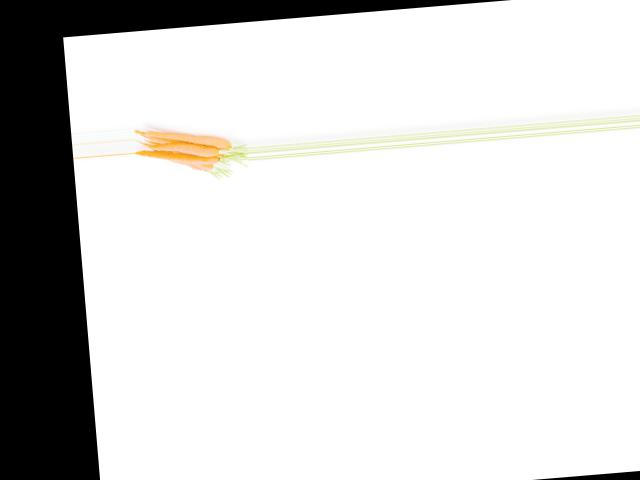carrot: (135, 125, 234, 150)
